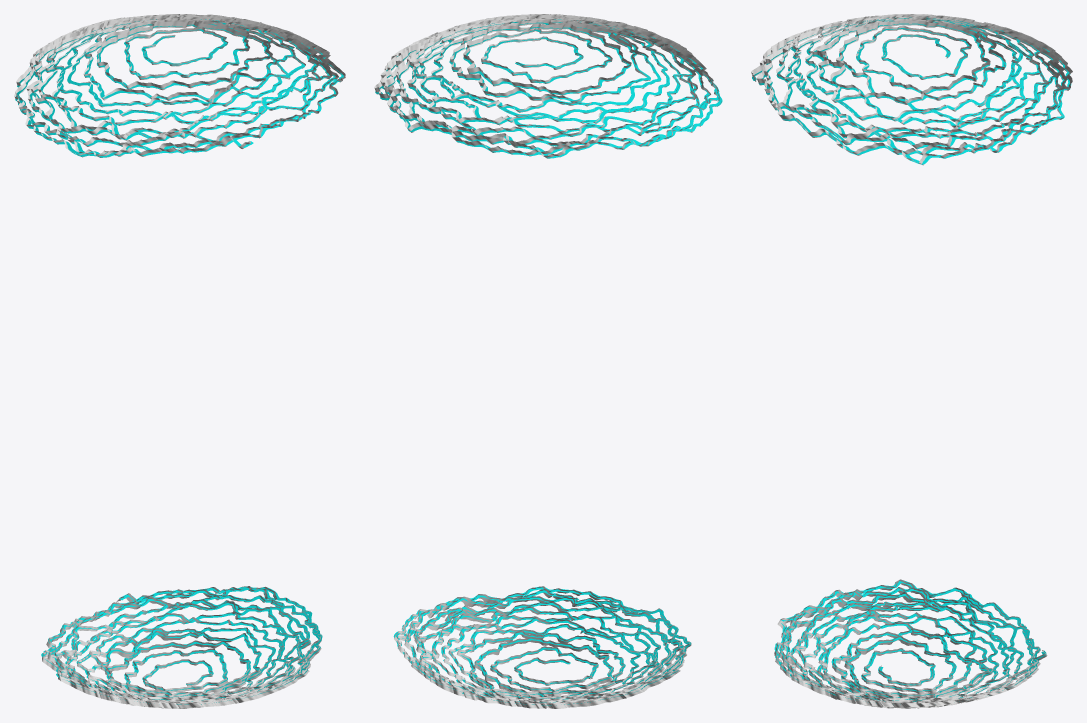
File: SM_EarthAurora.fbx
The picture shows the model from 3 angles, left to right: view 1: azimuth 30°, elevation 25°; view 2: azimuth 150°, elevation 25°; view 3: azimuth 270°, elevation 25°; orthographic projection.
Visible parts, largest first — view 1: SM_EarthAurora; view 2: SM_EarthAurora; view 3: SM_EarthAurora.
Boxes of the visible parts, <box> form: SM_EarthAurora: <box>14,14,345,708</box>; SM_EarthAurora: <box>374,14,722,708</box>; SM_EarthAurora: <box>751,14,1072,708</box>.
Bounding box in the file's own units: 1.02 × 2.02 × 0.9409.
